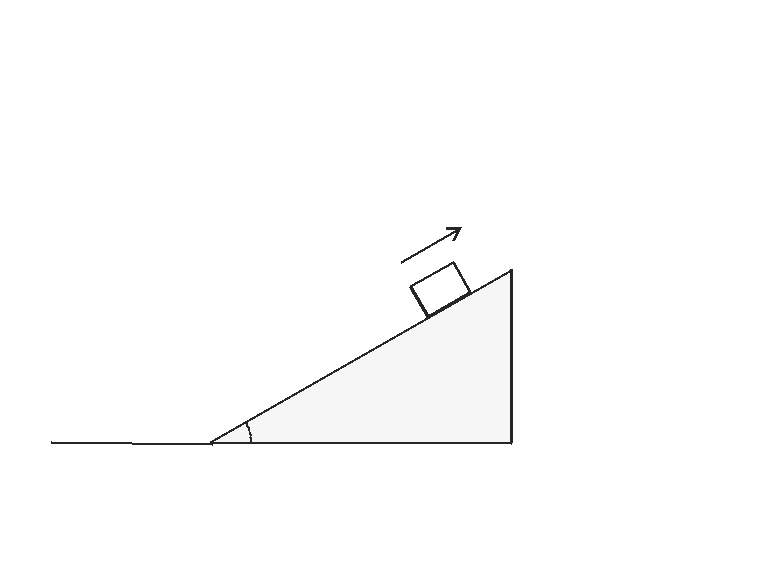block: (408, 260, 472, 319)
ramp: (209, 267, 513, 444)
